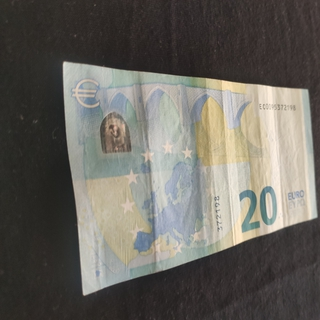20EUROBack: (61, 60, 319, 296)
